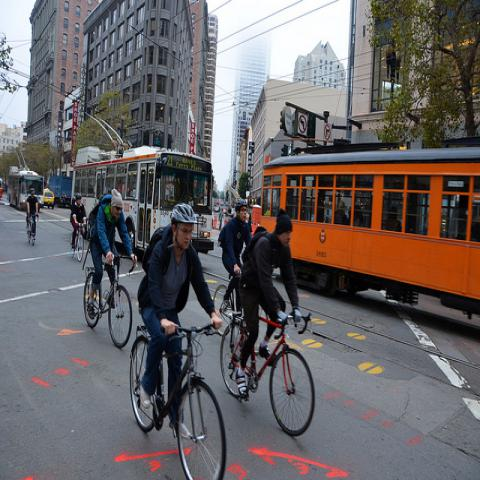bus: (72, 140, 214, 257), (7, 174, 44, 212)
car: (44, 191, 55, 209)
